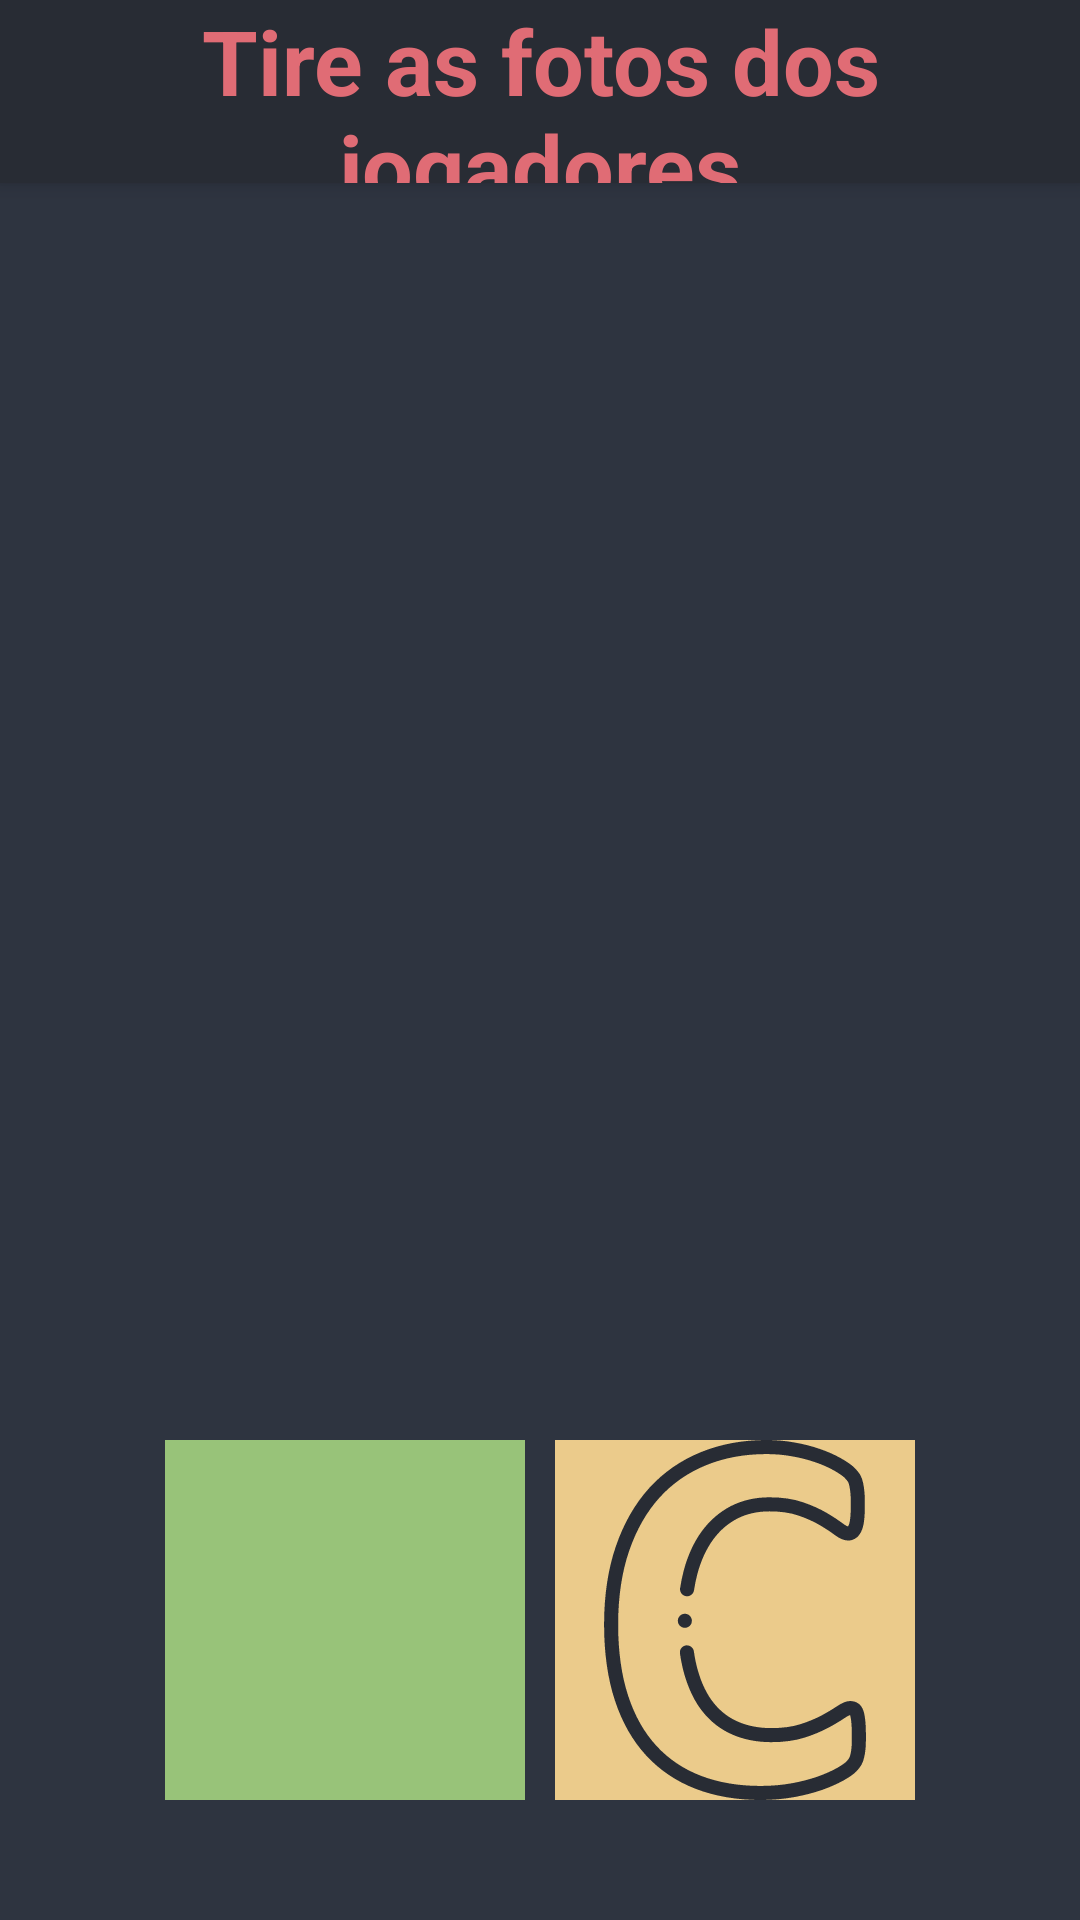

Where icons sit on this 1080x1920 app screen, as (x1, y1, x2, y2):
Botão Limpa Tabuleiro: (555, 1440, 915, 1800)
